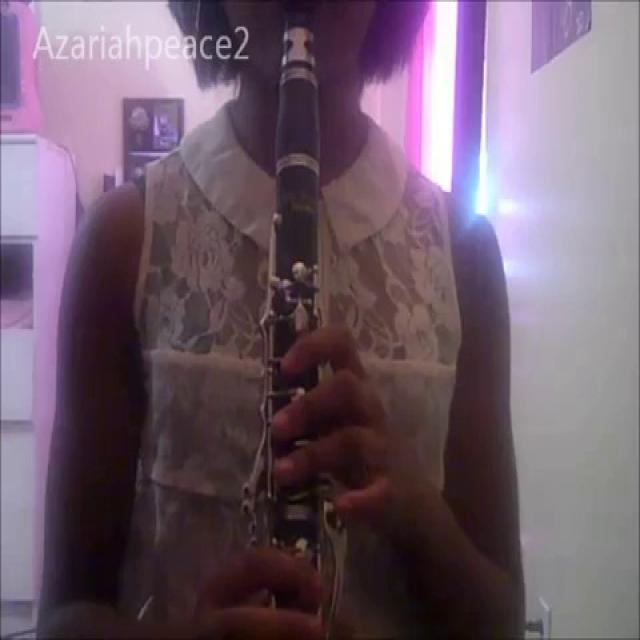Clarinet: (247, 2, 338, 640)
